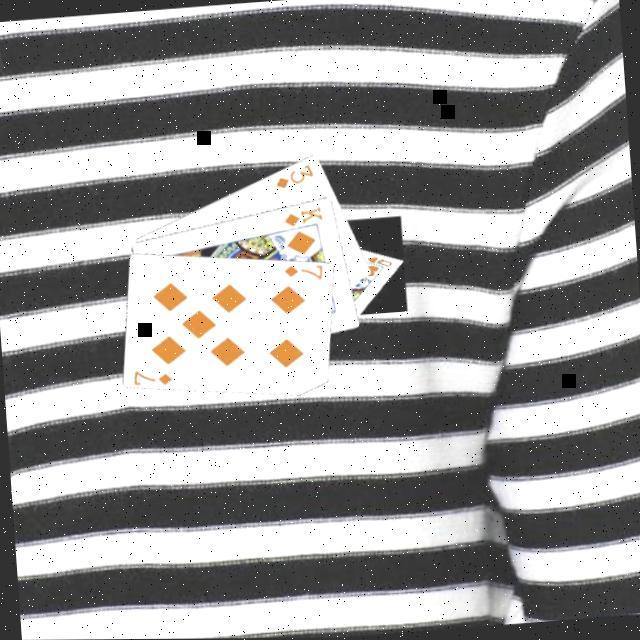3D: (271, 159, 317, 190)
7D: (279, 259, 324, 284), (129, 363, 174, 387)
KD: (279, 202, 325, 229)
